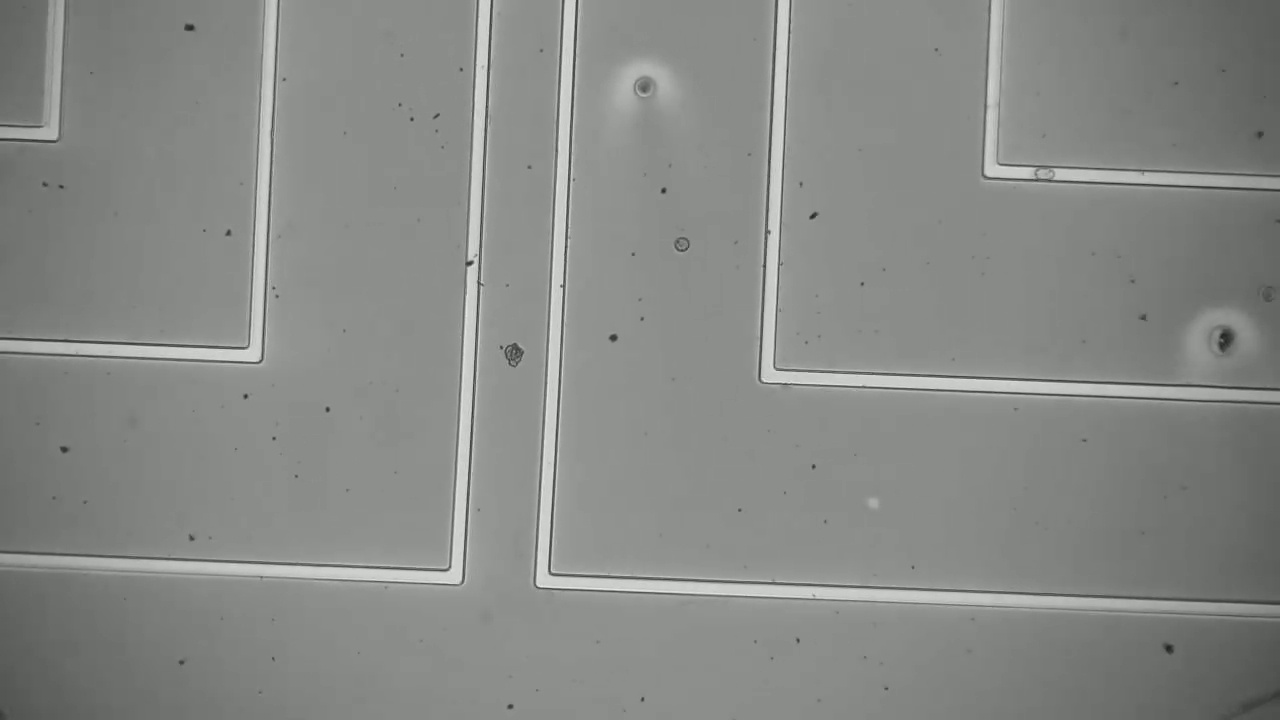stains_enbedded: (1029, 154, 1061, 201), (460, 254, 482, 275)
